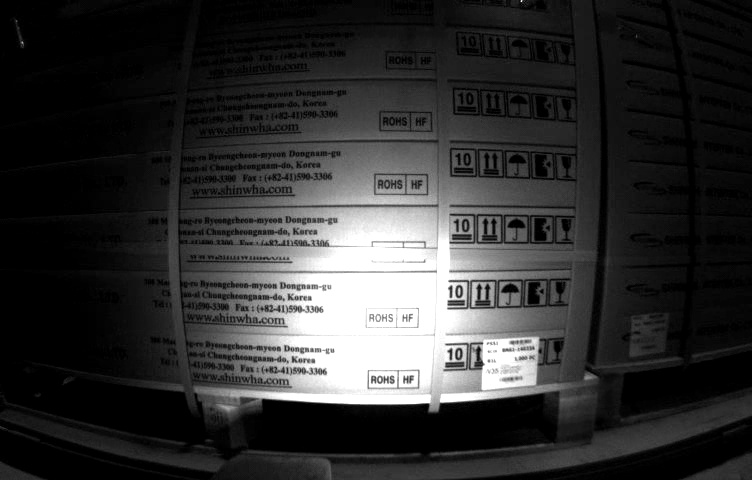True Barcode: (483, 338, 539, 387), (630, 313, 669, 355)
